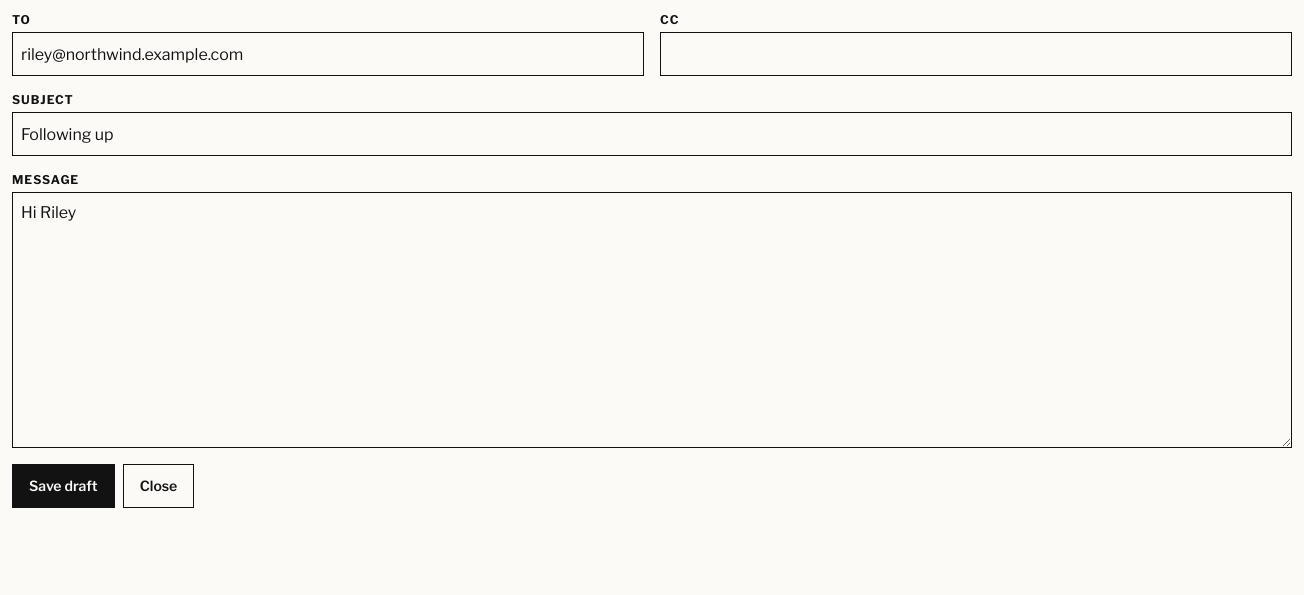
EmailEditor › does not warn about a verified address, and warns about a [placeholder] as it is typed
Expected: the text "placeholder" is not shown
In the text box labelled "Message": (652, 320) 12,192 -> 1292,448, type " on [ [date]"
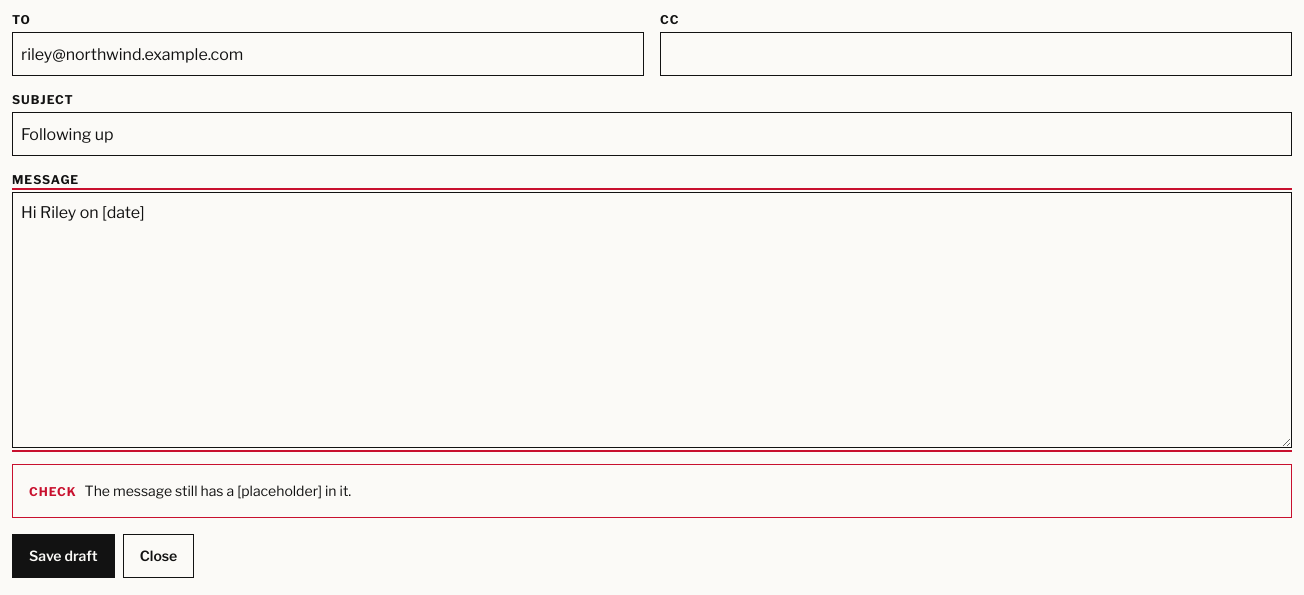
Expected: the text "still has a [placeholder]" is shown, 85,482 -> 351,499
